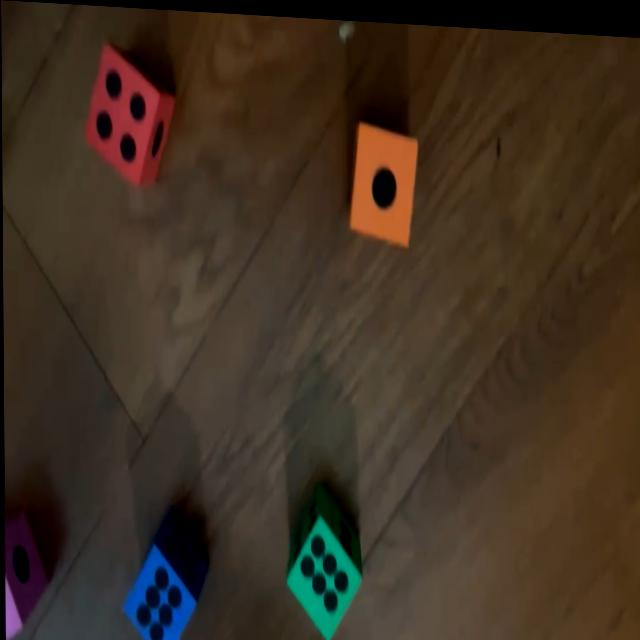cube: (85, 41, 176, 187), (284, 480, 361, 640), (122, 509, 209, 640)
